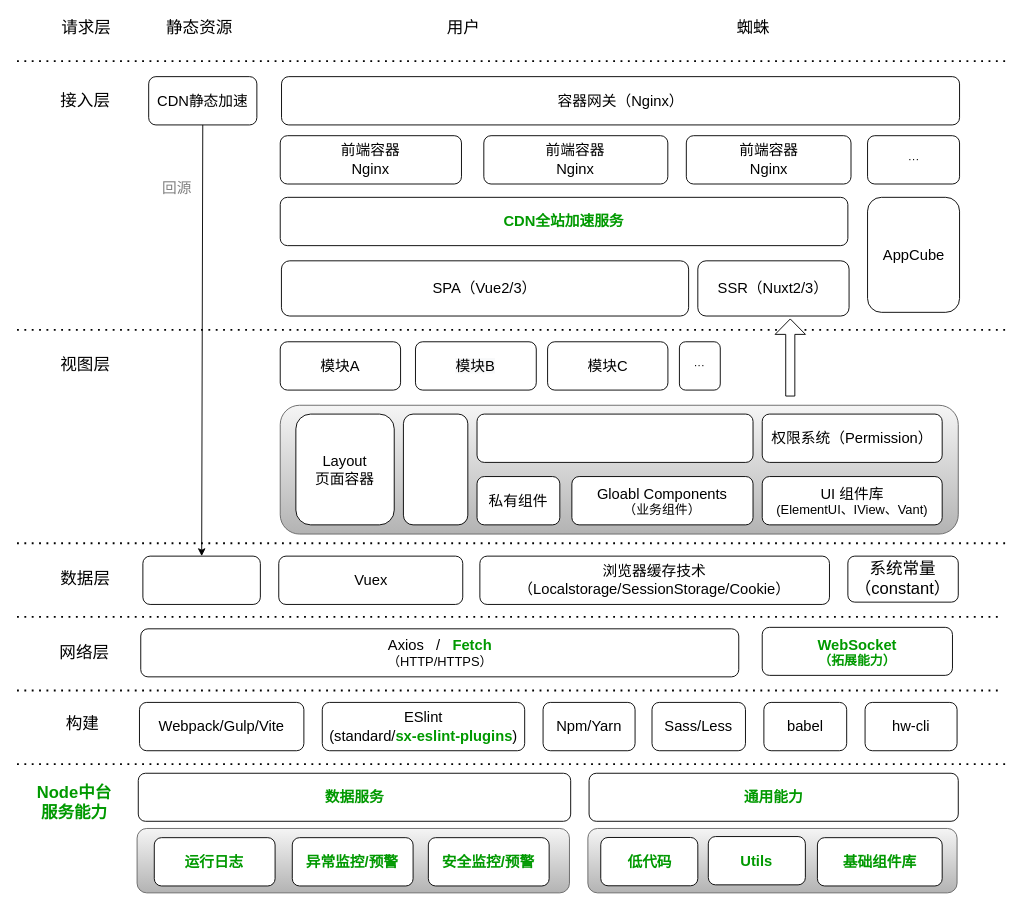
Some shapes in this 1028 by 909 pixel diagram are drawn without their labels. Here are the shapes that lost their labels. From the top down, the centre of each, then its label:
the point at 614,437: 路由（Vue-Router）
the point at 435,469: 基础 组件库
the point at 201,579: 对象存储 华为OBS
